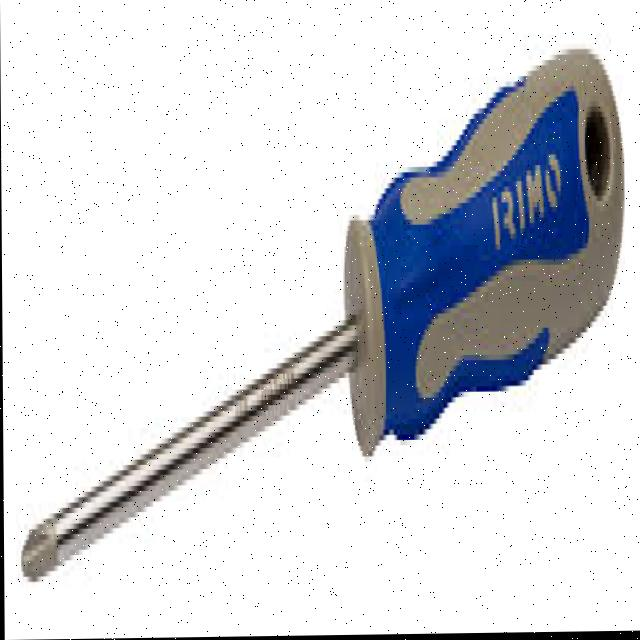Screwdriver: (21, 52, 622, 579)
